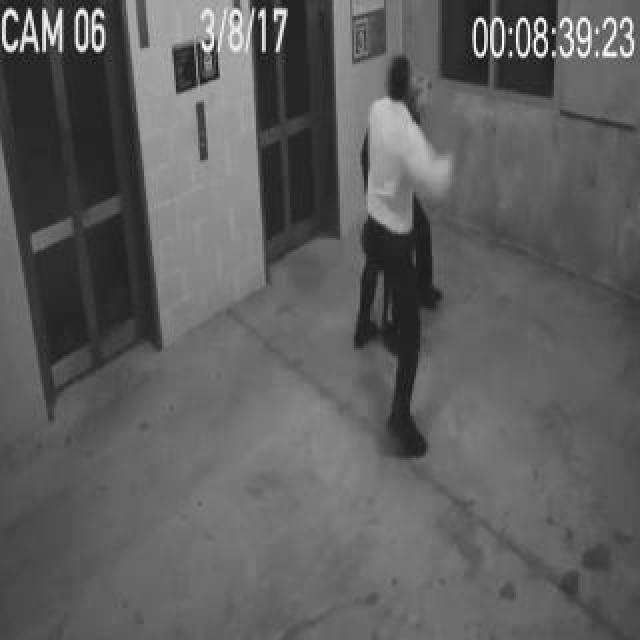fight: (337, 34, 467, 470)
